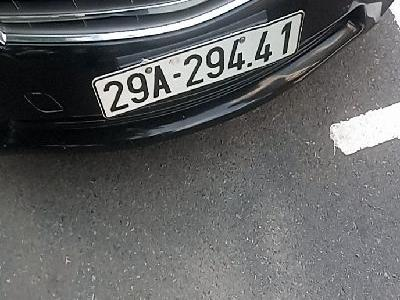number: (93, 12, 303, 118)
